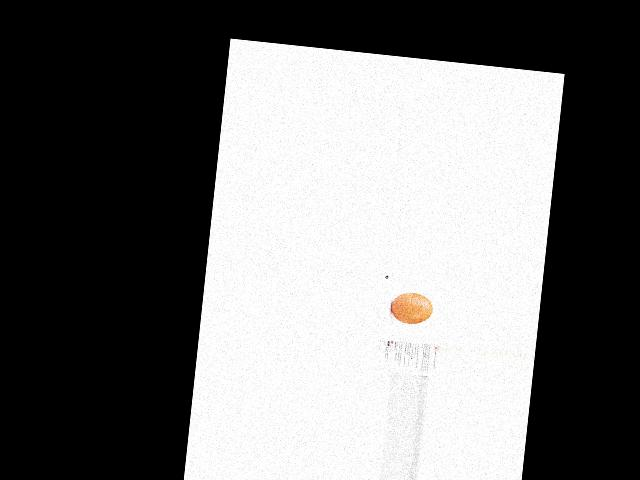egg: (389, 291, 433, 326)
